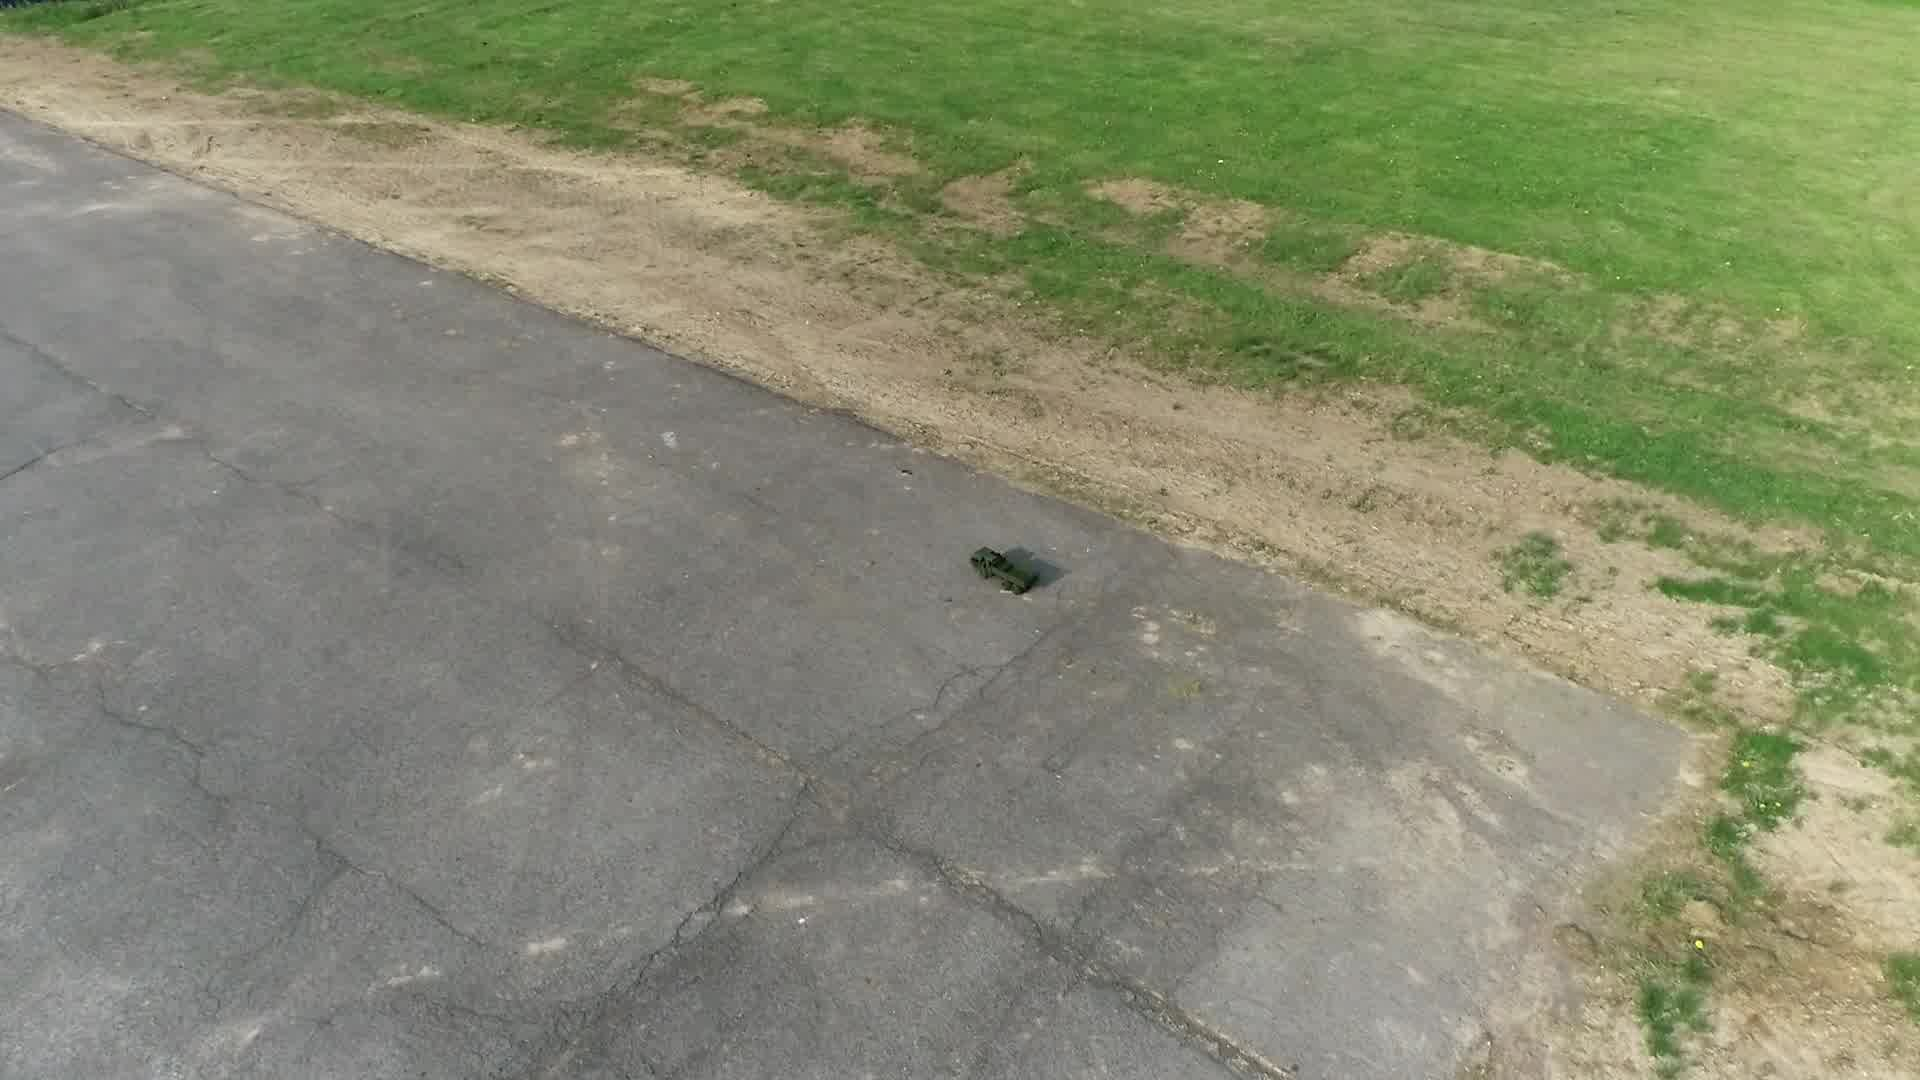transporter9: (967, 541, 1043, 597)
